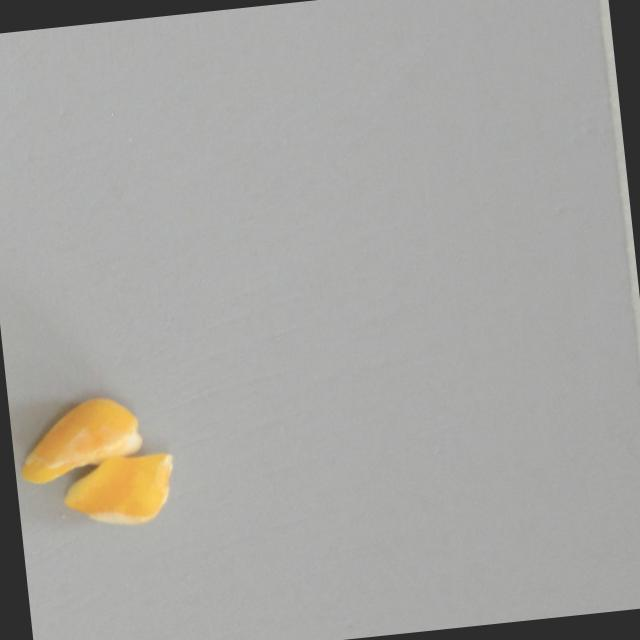pelicula: (46, 444, 193, 550), (7, 387, 151, 493)
